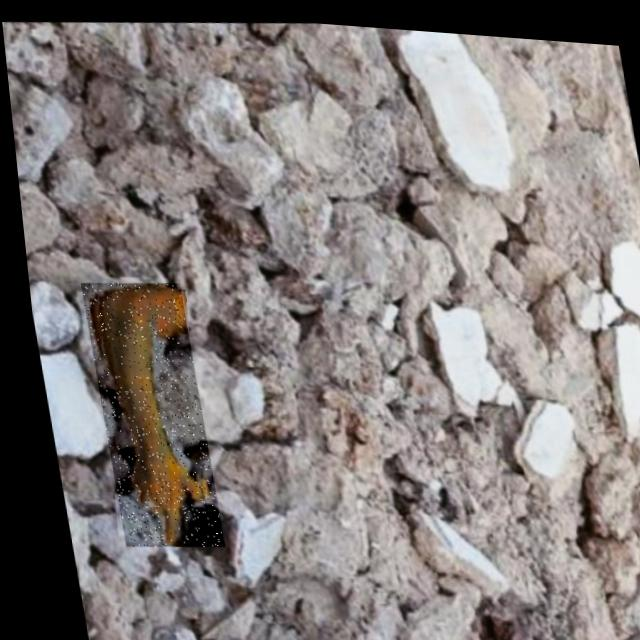Person in Rubble: (72, 275, 212, 551)
